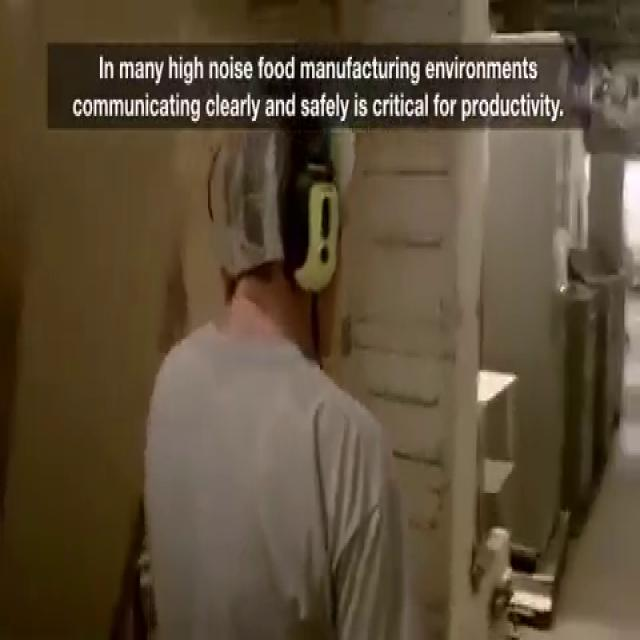earmuff: (286, 151, 343, 300)
